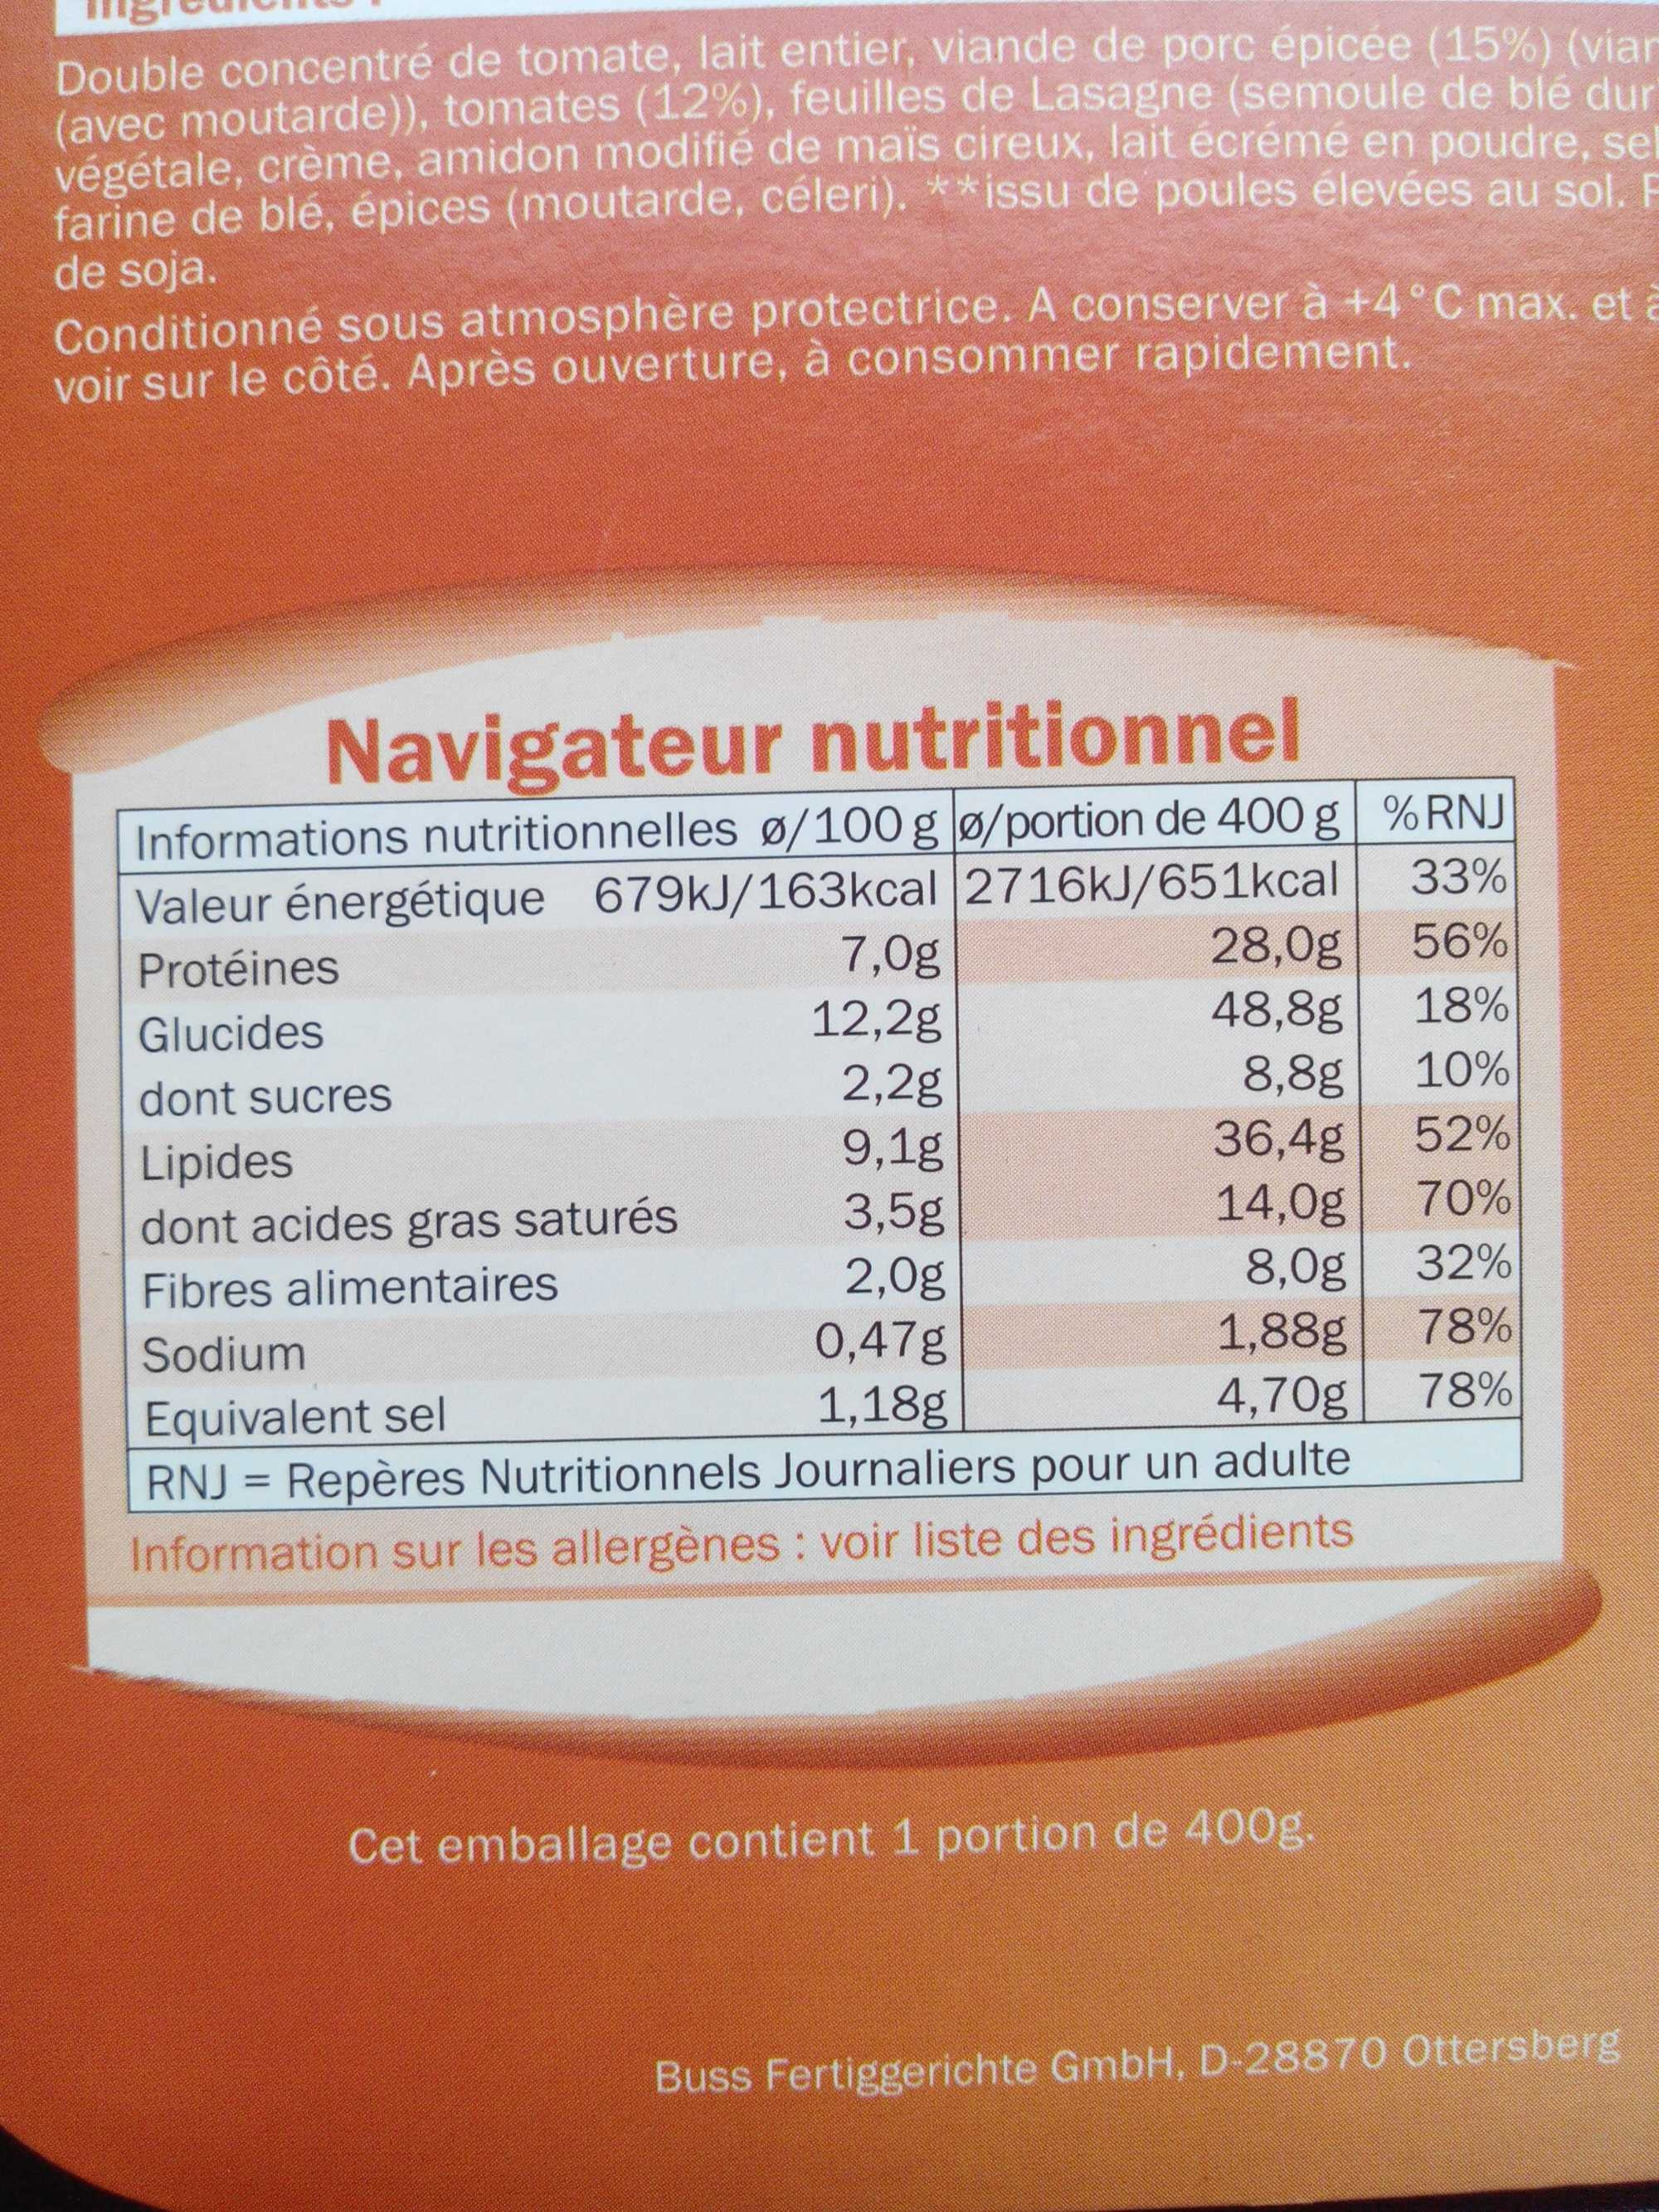column: (120, 797, 943, 1429), (962, 797, 1338, 1415), (1377, 793, 1509, 1408)
table: (89, 772, 1521, 1445)
